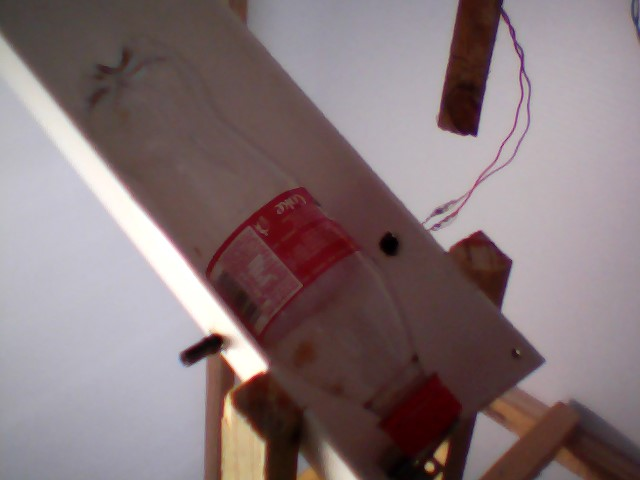plastico: (67, 28, 470, 462)
